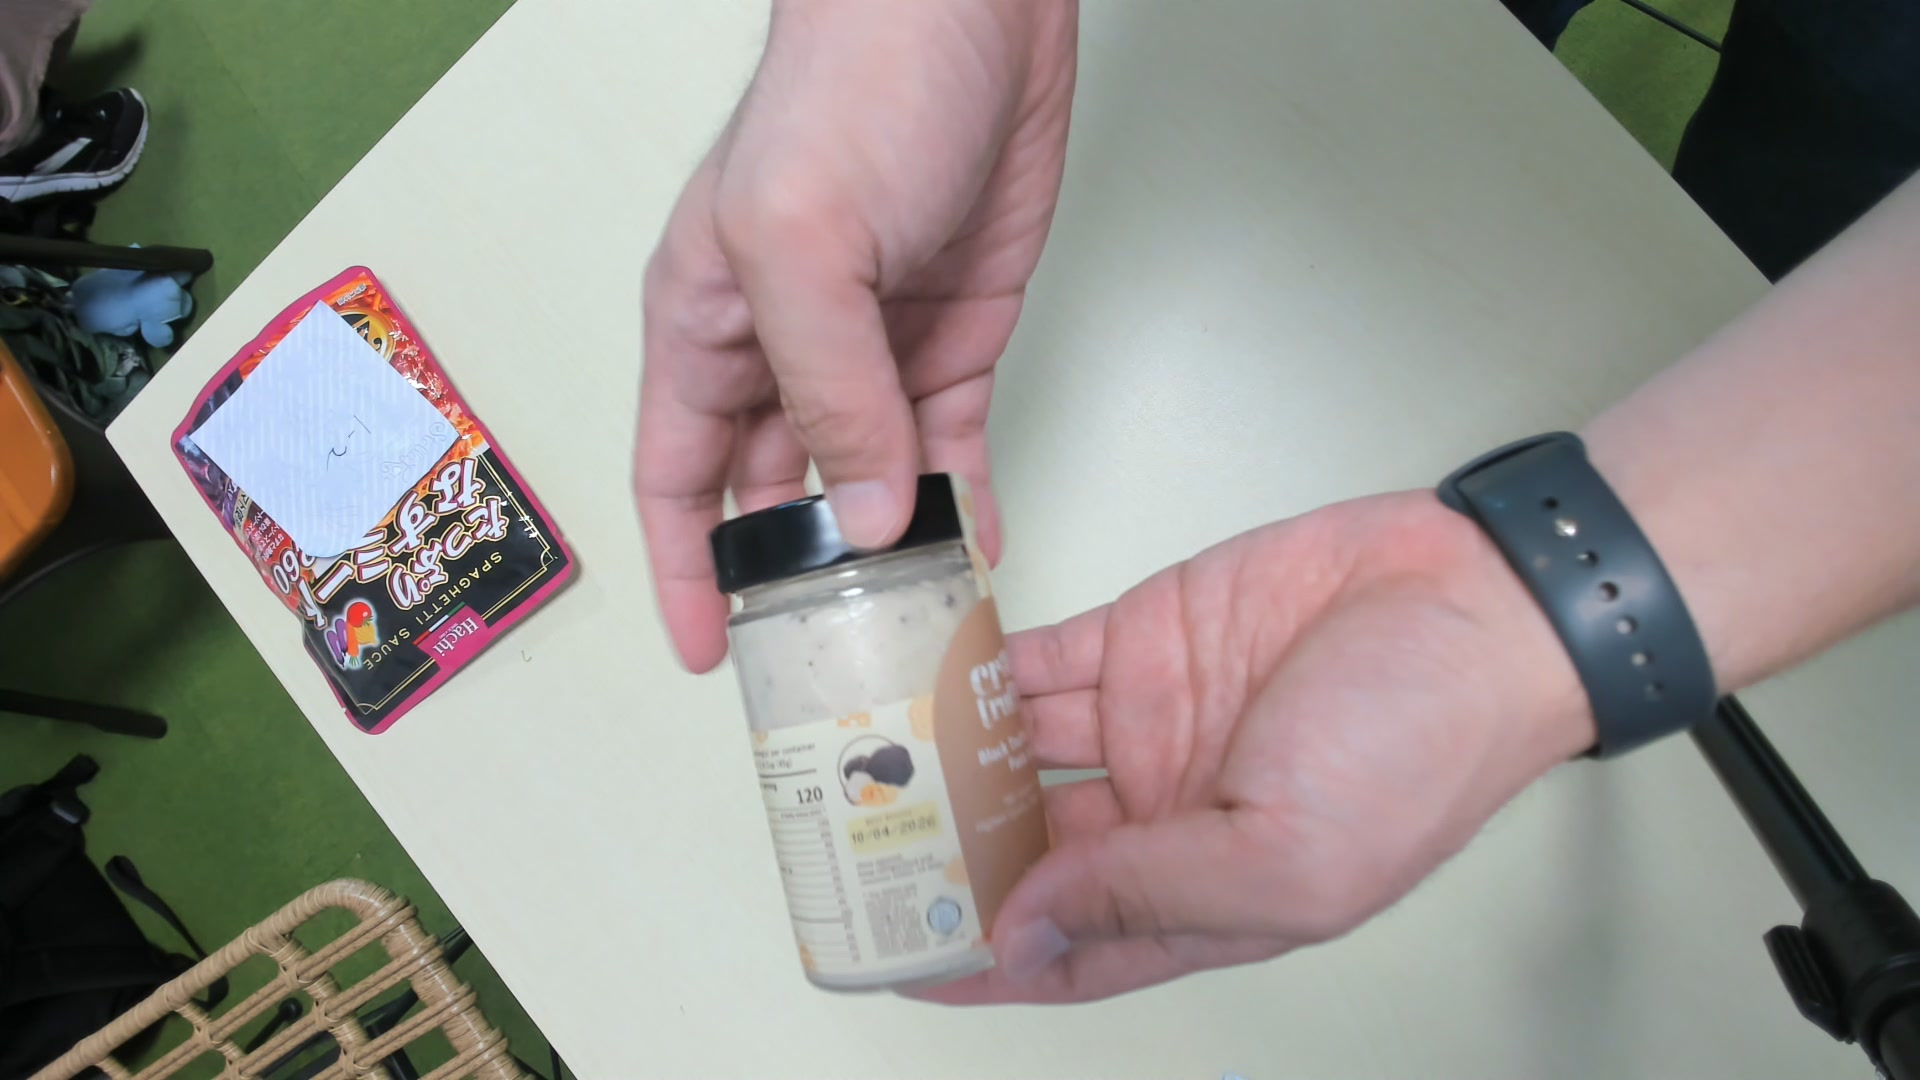PastaSauce_100-199g_Halal_NonHealthy: (713, 477, 1059, 992)
